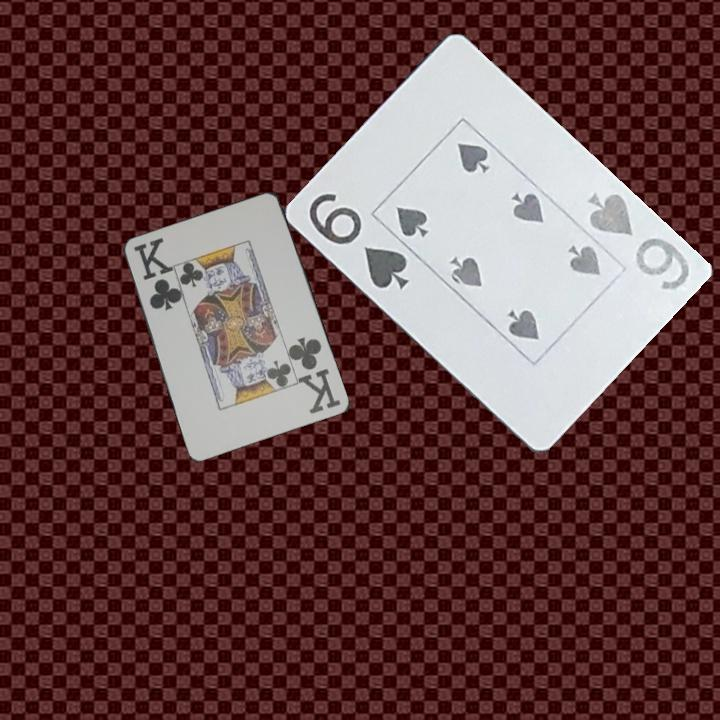6s: (582, 188, 692, 293), (304, 189, 412, 294)
Kc: (286, 332, 344, 417), (130, 236, 182, 314)
